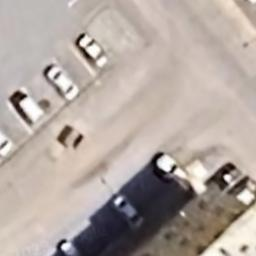sedan: (155, 150, 191, 193), (46, 61, 80, 102), (110, 192, 144, 229), (78, 32, 108, 68)
unknown: (10, 87, 42, 125)
